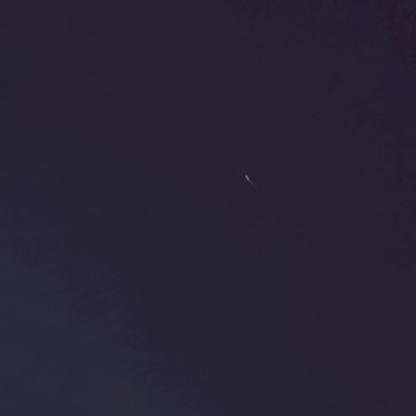ship: (237, 171, 254, 182)
